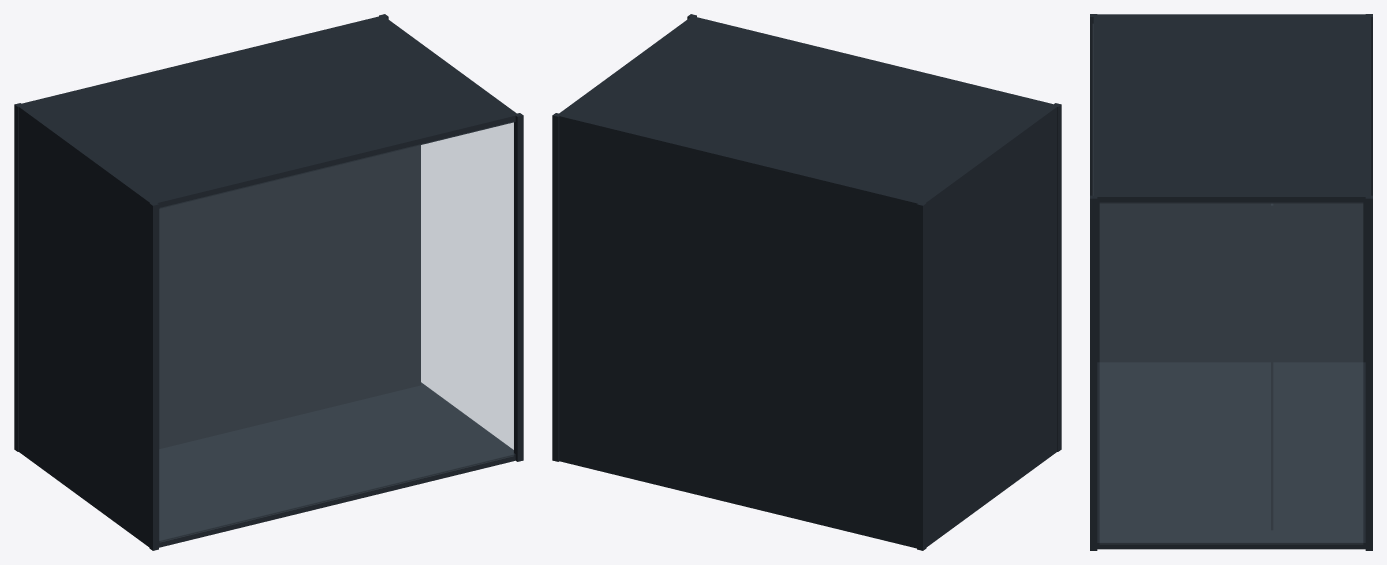
The model's file is retail-lian-li-o11-dynamic-mini-black.glb.
The picture shows the model from 3 angles, left to right: view 1: azimuth 30°, elevation 25°; view 2: azimuth 150°, elevation 25°; view 3: azimuth 270°, elevation 25°; orthographic projection. The views are drawn at different scales.
Parts seen in each view (by area): view 1: Side panel, Motherboard tray, Top, Rear, Base, Front panel, Frame rail (×3); view 2: Back, Top, Rear, Frame rail (×3); view 3: Front panel, Top, Base, Rear, Frame rail (×4), Motherboard tray, Back.
Part boxes in pixels (x1=…): Side panel: x1=159, y1=122, x2=513, y2=540; Motherboard tray: x1=159, y1=145, x2=420, y2=449; Top: x1=19, y1=16, x2=518, y2=208; Rear: x1=17, y1=105, x2=153, y2=546; Base: x1=159, y1=382, x2=515, y2=547; Front panel: x1=421, y1=123, x2=513, y2=449; Frame rail (×3): x1=14, y1=103, x2=523, y2=550; Back: x1=559, y1=115, x2=921, y2=548; Top: x1=557, y1=16, x2=1055, y2=203; Rear: x1=922, y1=105, x2=1058, y2=546; Frame rail (×3): x1=552, y1=103, x2=1061, y2=550; Front panel: x1=1100, y1=203, x2=1362, y2=542; Top: x1=1093, y1=15, x2=1369, y2=203; Base: x1=1097, y1=362, x2=1365, y2=549; Rear: x1=1093, y1=14, x2=1369, y2=362; Frame rail (×4): x1=1090, y1=14, x2=1372, y2=550; Motherboard tray: x1=1271, y1=203, x2=1273, y2=530; Back: x1=1368, y1=15, x2=1370, y2=196.
Bounding box in the file's own units: 0.427 × 0.38 × 0.2765.
